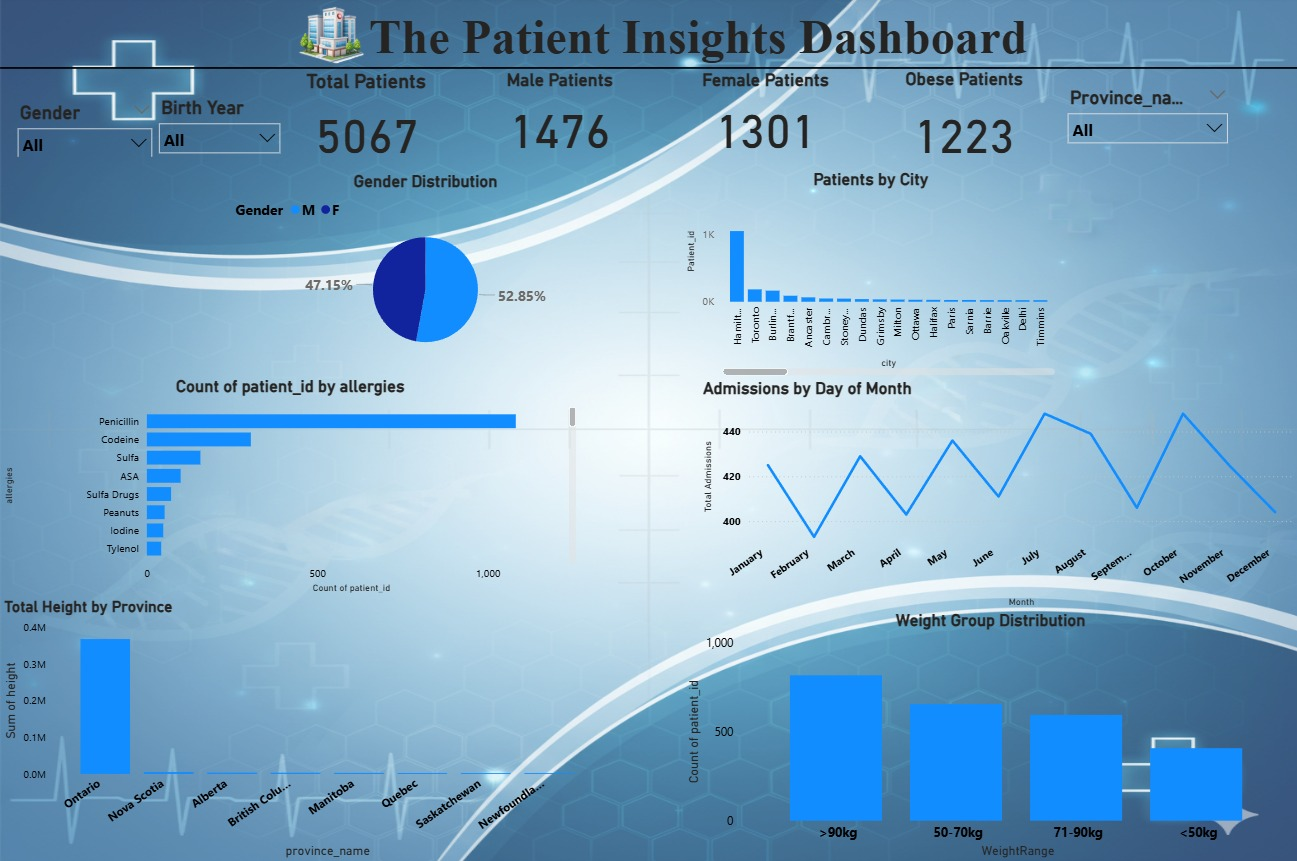

Layout of this report page (visuals, bound fields, positions):
{"tool":"powerbi","page":{"name":"Page 4","canvas":[1500,1000],"ordinal":3},"visuals":[{"type":"textbox","box":[287.7,10.2,1038.3,89.1],"z":0},{"type":"slicer","fields":{"Values":["project_medical_data_history province_names.province_name"]},"box":[1222.6,99.6,205,76.5],"z":1000},{"type":"slicer","fields":{"Values":["project_medical_data_history patients.gender"]},"box":[10.2,116.8,175.2,68.6],"z":2000},{"type":"slicer","fields":{"Values":["project_medical_data_history patients.Birth Year"]},"box":[173.8,111,160.6,80.3],"z":3000},{"type":"card","title":"Total Patients","fields":{"Values":["project_medical_data_history admissions.Total Patients"]},"box":[297.9,84.7,251.2,115.4],"z":4000},{"type":"card","title":"Male Patients","fields":{"Values":["project_medical_data_history admissions.Male Patients"]},"box":[543.2,84.7,207.4,106.6],"z":5000},{"type":"card","title":"Female Patients","fields":{"Values":["project_medical_data_history admissions.Female Patients"]},"box":[765.2,84.7,238,105.1],"z":6000},{"type":"card","title":"Obese Patients","fields":{"Values":["project_medical_data_history admissions.Obese Patients"]},"box":[1003.2,83.2,220.5,119.7],"z":7000},{"type":"pieChart","title":"Gender Distribution","fields":{"Category":["project_medical_data_history patients.gender"],"Y":["CountNonNull(project_medical_data_history patients.patient_id)"]},"box":[267,203.5,448.9,218],"z":8000},{"type":"clusteredColumnChart","title":"Patients by City","fields":{"Category":["project_medical_data_history patients.city"],"Y":["Count(project_medical_data_history patients.patient_id)"]},"box":[788.6,200.1,435.2,242.4],"z":9000},{"type":"clusteredBarChart","fields":{"Category":["project_medical_data_history patients.allergies"],"Y":["CountNonNull(project_medical_data_history patients.patient_id)"]},"box":[0,439.5,670.3,254.1],"z":10000},{"type":"lineChart","title":"Admissions by Day of Month","fields":{"Category":["project_medical_data_history admissions.admission_date.Variation.Date Hierarchy.Month","project_medical_data_history admissions.admission_date.Variation.Date Hierarchy.Day"],"Y":["project_medical_data_history admissions.Total Admissions"]},"box":[807.5,441,692.2,268.7],"z":11000},{"type":"clusteredColumnChart","title":"Weight Group Distribution","fields":{"Y":["CountNonNull(project_medical_data_history patients.patient_id)"],"Category":["project_medical_data_history patients.WeightRange"]},"box":[788.1,710.2,711.6,290.1],"z":12000},{"type":"clusteredColumnChart","title":"Total Height by Province","fields":{"Y":["Sum(project_medical_data_history patients.height)"],"Category":["project_medical_data_history province_names.province_name"]},"box":[0,694.3,698.6,306],"z":13000},{"type":"image","box":[309.6,0,147.5,89.1],"z":14000},{"type":"shape","box":[0,75.9,1499.7,13.1],"z":15000}]}

Visuals, with their boxes in screenshot pixels (x1, y1, x2, y2), scaled from the page's 1500x1000 canvas onto the 1297x861 screenshot:
textbox: locate(249, 9, 1147, 85)
slicer - project_medical_data_history province_names.province_name: locate(1057, 86, 1234, 152)
slicer - project_medical_data_history patients.gender: locate(9, 101, 160, 160)
slicer - project_medical_data_history patients.Birth Year: locate(150, 96, 289, 165)
"Total Patients" card: locate(258, 73, 475, 172)
"Male Patients" card: locate(470, 73, 649, 165)
"Female Patients" card: locate(662, 73, 867, 163)
"Obese Patients" card: locate(867, 72, 1058, 175)
"Gender Distribution" pieChart: locate(231, 175, 619, 363)
"Patients by City" clusteredColumnChart: locate(682, 172, 1058, 381)
clusteredBarChart - project_medical_data_history patients.allergies x CountNonNull(project_medical_data_history patients.patient_id): locate(0, 378, 580, 597)
"Admissions by Day of Month" lineChart: locate(698, 380, 1296, 611)
"Weight Group Distribution" clusteredColumnChart: locate(681, 611, 1296, 860)
"Total Height by Province" clusteredColumnChart: locate(0, 598, 604, 860)
image: locate(268, 0, 395, 77)
shape: locate(0, 65, 1296, 77)
